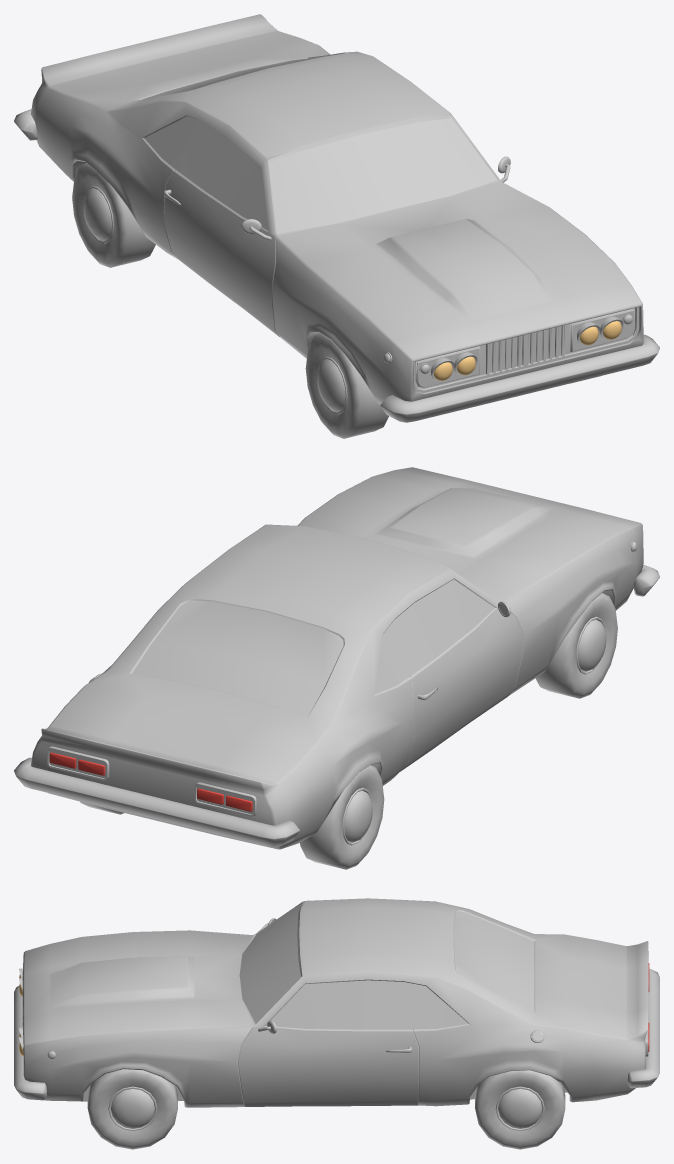
The model's file is SM_Vehicles_03_V1.fbx.
3 views of the same model, one above another, from view 1: azimuth 30°, elevation 25°; view 2: azimuth 150°, elevation 25°; view 3: azimuth 270°, elevation 25° (orthographic). The views are drawn at different scales.
Visible parts, largest first — view 1: SM_Vehicles_03_V1, SM_Vehicles_03_FR, SM_Vehicles_03_RR; view 2: SM_Vehicles_03_V1, SM_Vehicles_03_RR, SM_Vehicles_03_FR, SM_Vehicles_03_V2; view 3: SM_Vehicles_03_V1, SM_Vehicles_03_FL, SM_Vehicles_03_RL.
Part boxes in pixels (box(x1,y1,x2,y2)): SM_Vehicles_03_V1: box(14, 14, 659, 422); SM_Vehicles_03_FR: box(305, 333, 388, 438); SM_Vehicles_03_RR: box(72, 163, 155, 267); SM_Vehicles_03_V1: box(14, 467, 659, 849); SM_Vehicles_03_RR: box(300, 765, 384, 869); SM_Vehicles_03_FR: box(535, 593, 617, 698); SM_Vehicles_03_V2: box(15, 541, 636, 837); SM_Vehicles_03_V1: box(14, 898, 659, 1107); SM_Vehicles_03_FL: box(87, 1069, 177, 1149); SM_Vehicles_03_RL: box(475, 1070, 565, 1149).
Size of the model in its own units: 2.02 by 1.42 by 4.89.
